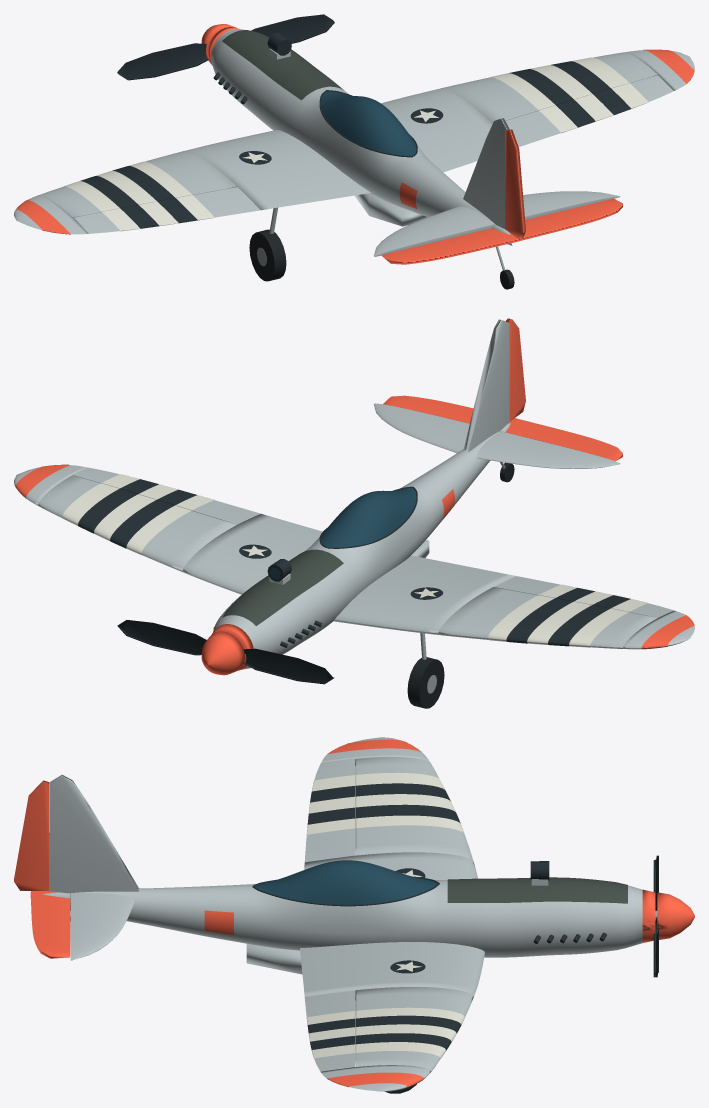
The model's file is rift-a40.glb.
3 views of the same model, one above another, from view 1: azimuth 30°, elevation 25°; view 2: azimuth 150°, elevation 25°; view 3: azimuth 270°, elevation 25° (orthographic). The views are drawn at different scales.
Parts seen in each view (by area): view 1: A40_static_shell_0, A40_static_shell_6, A40_static_shell_3, A40_elevator_skin, A40_static_shell_1, A40_propeller_blade (×2), A40_static_shell_2, A40_aileron_paint_1 (×5), A40_aileron_paint_-1 (×5), A40_static_shell_4, A40_aileron_skin_-1, A40_aileron_skin_1 (+2 smaller); view 2: A40_static_shell_0, A40_static_shell_6, A40_static_shell_3, A40_static_shell_1, A40_static_shell_4, A40_propeller_blade (×2), A40_static_shell_2, A40_elevator_skin, A40_static_shell_7, A40_rudder_skin, A40_aileron_skin_1, A40_aileron_skin_-1; view 3: A40_static_shell_0, A40_static_shell_6, A40_static_shell_3, A40_static_shell_1, A40_static_shell_4, A40_static_shell_2, A40_rudder_skin, A40_elevator_skin, A40_aileron_skin_-1, A40_aileron_skin_1, A40_aileron_paint_-1.
Boxes of the visible parts, left/top/right/bottom form: A40_static_shell_0: left=14, top=29, right=694, bottom=256; A40_static_shell_6: left=64, top=57, right=628, bottom=211; A40_static_shell_3: left=80, top=33, right=610, bottom=207; A40_elevator_skin: left=381, top=198, right=622, bottom=264; A40_static_shell_1: left=321, top=91, right=416, bottom=156; A40_propeller_blade (×2): left=117, top=14, right=334, bottom=80; A40_static_shell_2: left=222, top=30, right=343, bottom=100; A40_aileron_paint_1 (×5): left=539, top=83, right=648, bottom=133; A40_aileron_paint_-1 (×5): left=102, top=195, right=214, bottom=231; A40_static_shell_4: left=16, top=24, right=694, bottom=234; A40_aileron_skin_-1: left=73, top=187, right=260, bottom=233; A40_aileron_skin_1: left=505, top=75, right=673, bottom=146; A40_static_shell_0: left=14, top=319, right=694, bottom=669; A40_static_shell_6: left=62, top=483, right=628, bottom=647; A40_static_shell_3: left=78, top=486, right=610, bottom=647; A40_static_shell_1: left=269, top=487, right=416, bottom=579; A40_static_shell_4: left=15, top=464, right=694, bottom=675; A40_propeller_blade (×2): left=117, top=620, right=334, bottom=684; A40_static_shell_2: left=222, top=549, right=343, bottom=625; A40_elevator_skin: left=383, top=395, right=622, bottom=461; A40_static_shell_7: left=407, top=462, right=514, bottom=708; A40_rudder_skin: left=505, top=318, right=525, bottom=421; A40_aileron_skin_1: left=73, top=467, right=260, bottom=524; A40_aileron_skin_-1: left=494, top=576, right=673, bottom=617; A40_static_shell_0: left=43, top=737, right=642, bottom=1091; A40_static_shell_6: left=355, top=772, right=464, bottom=1058; A40_static_shell_3: left=252, top=783, right=606, bottom=1050; A40_static_shell_1: left=254, top=860, right=437, bottom=904; A40_static_shell_4: left=204, top=739, right=694, bottom=1087; A40_static_shell_2: left=447, top=877, right=627, bottom=903; A40_rudder_skin: left=14, top=780, right=49, bottom=890; A40_elevator_skin: left=30, top=833, right=70, bottom=958; A40_aileron_skin_-1: left=304, top=759, right=355, bottom=862; A40_aileron_skin_1: left=304, top=990, right=355, bottom=1071; A40_aileron_paint_-1: left=307, top=807, right=355, bottom=824.
Bounding box in the file's own units: 0.4 × 0.1438 × 0.325.
